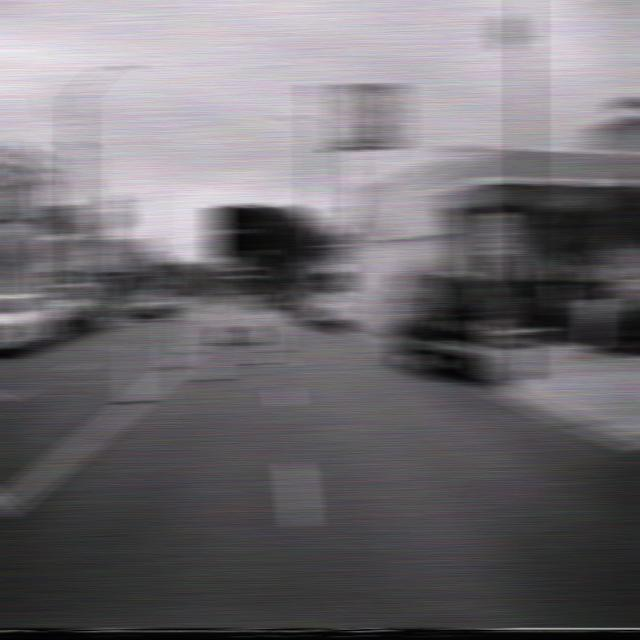speedLimit25: (483, 211, 513, 255)
